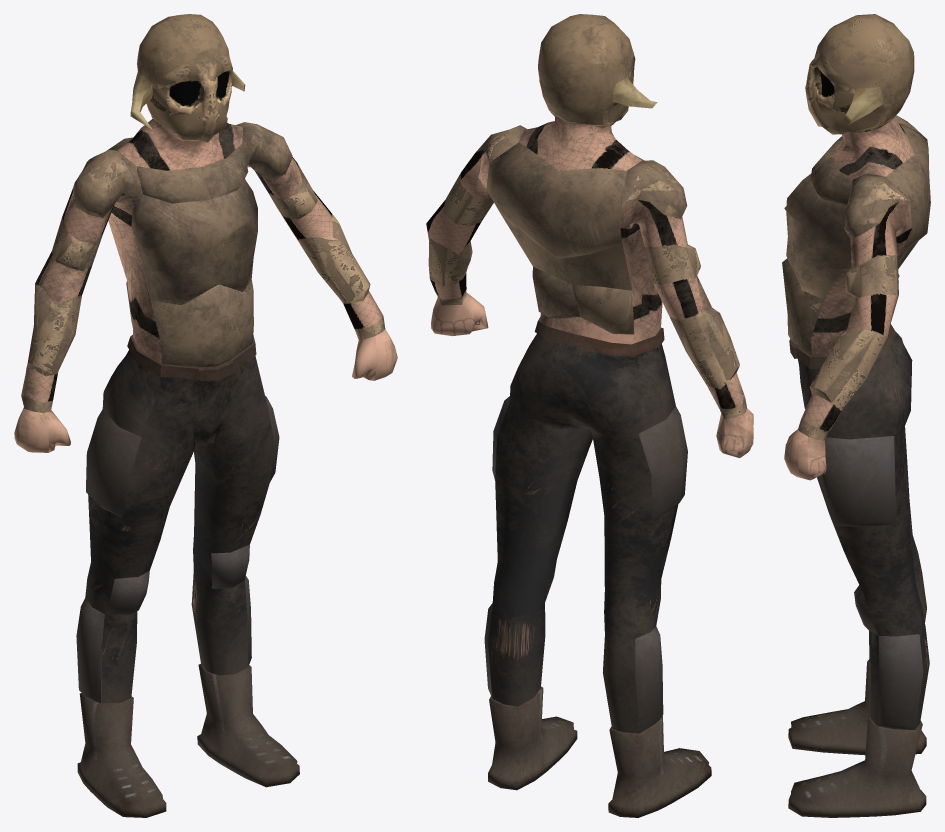
File: Anim_idle_npc1.0019.obj
The picture shows the model from 3 angles, left to right: view 1: azimuth 30°, elevation 25°; view 2: azimuth 150°, elevation 25°; view 3: azimuth 270°, elevation 25°; orthographic projection.
Visible parts, largest first — view 1: NPC2; view 2: NPC2; view 3: NPC2.
Boxes of the visible parts, box(x1,y1,x2,y2) form: NPC2: box(14, 14, 397, 817); NPC2: box(426, 14, 753, 817); NPC2: box(782, 14, 930, 817).
Bounding box in the file's own units: 4.65 × 9.67 × 1.72.
